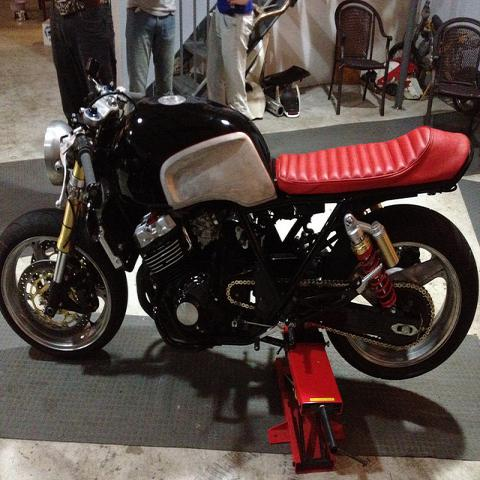motorcycle: (1, 59, 479, 383)
